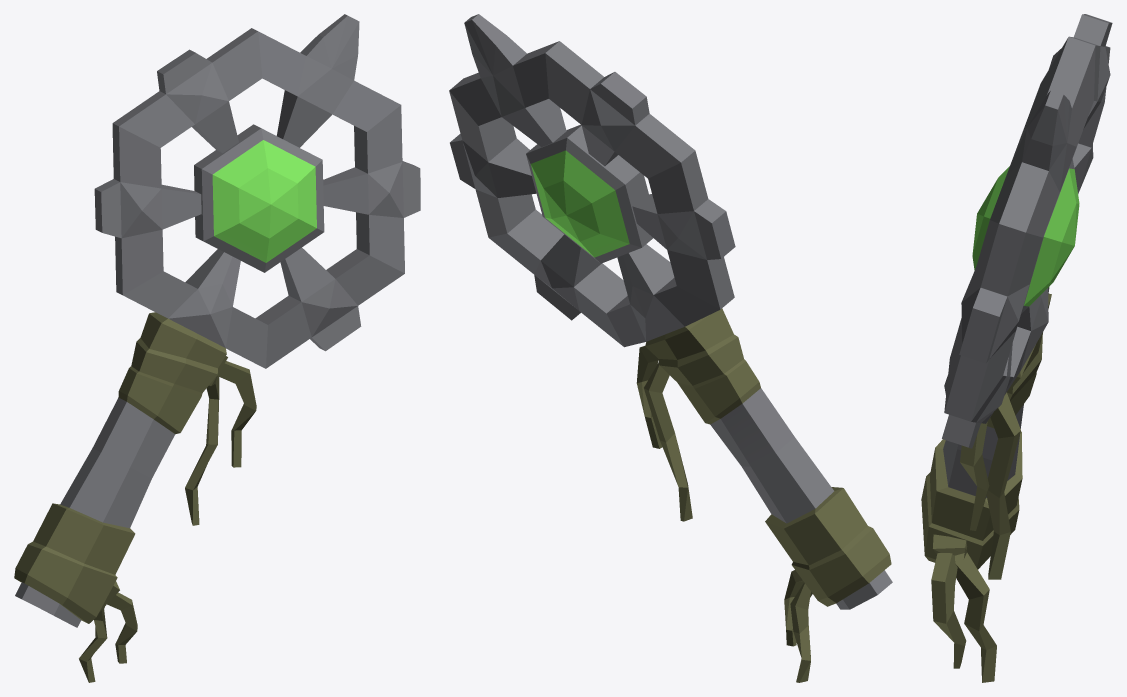
The model's file is talismanPoison.fbx.
The picture shows the model from 3 angles, left to right: view 1: azimuth 30°, elevation 25°; view 2: azimuth 150°, elevation 25°; view 3: azimuth 270°, elevation 25°; orthographic projection. The views are drawn at different scales.
Visible parts, largest first — view 1: talismanPoison; view 2: talismanPoison; view 3: talismanPoison.
Part boxes in pixels (x1,y1,x2,y2): talismanPoison: (14,14,420,682); talismanPoison: (449,14,892,682); talismanPoison: (921,14,1112,682).
Size of the model in its own units: 1.25 by 1.7 by 0.3812.
1 material, 1 textured.
